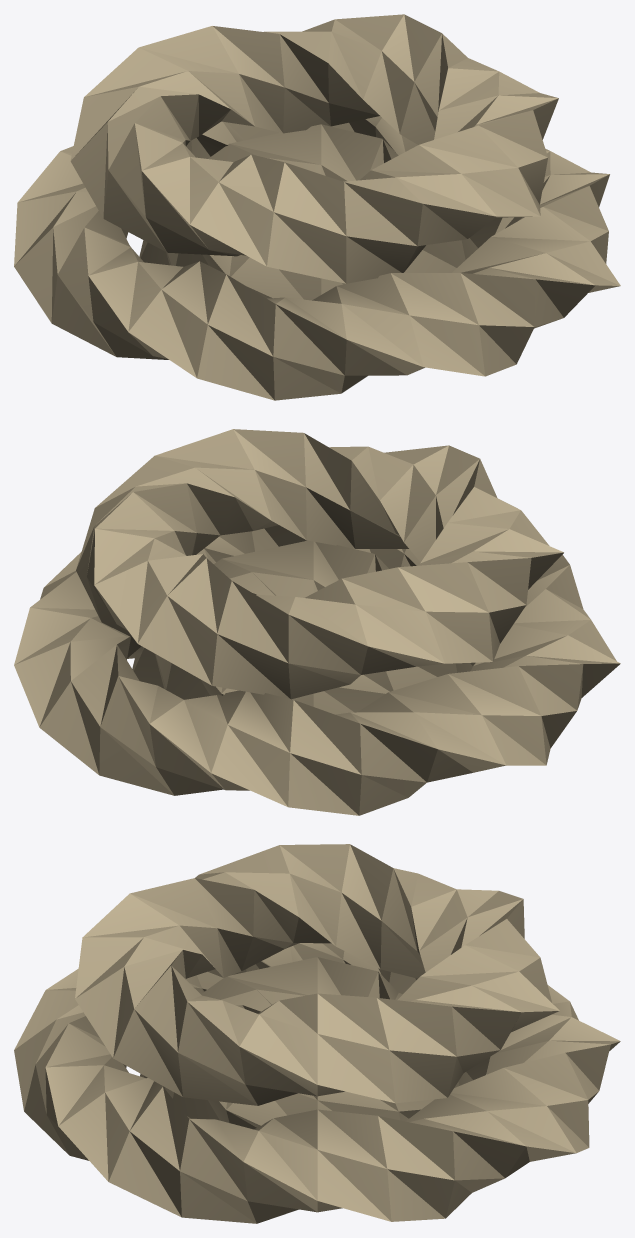
Rendered from rope.glb.
The picture shows the model from 3 angles, top to bottom: view 1: azimuth 30°, elevation 25°; view 2: azimuth 150°, elevation 25°; view 3: azimuth 270°, elevation 25°; orthographic projection.
Parts seen in each view (by area): view 1: rope; view 2: rope; view 3: rope.
Boxes of the visible parts, box(x1,y1,x2,y2) form: rope: box(14, 14, 620, 400); rope: box(14, 429, 620, 815); rope: box(14, 844, 620, 1223).
Bounding box in the file's own units: 0.826 × 0.3045 × 0.8397.
